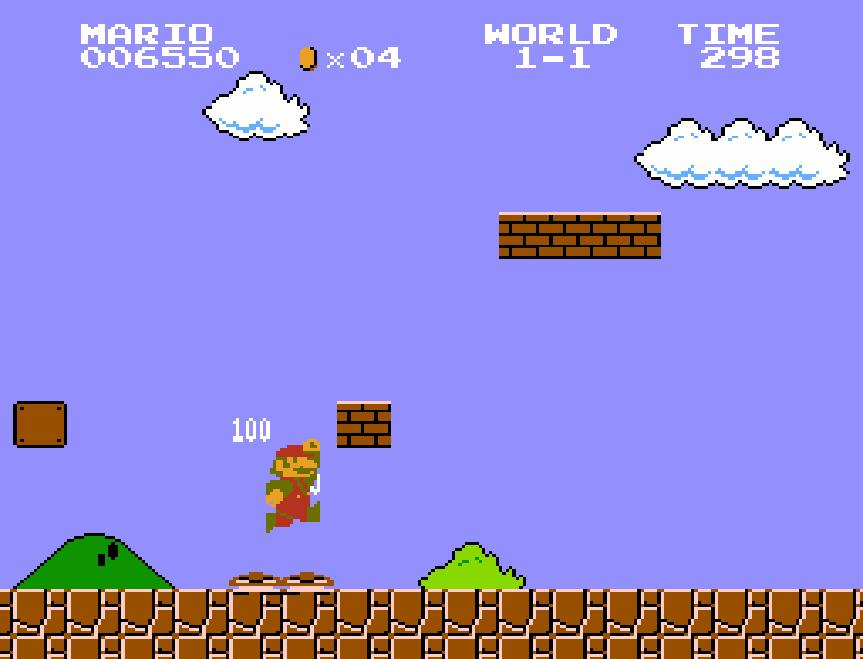big_mario: (264, 437, 322, 535)
